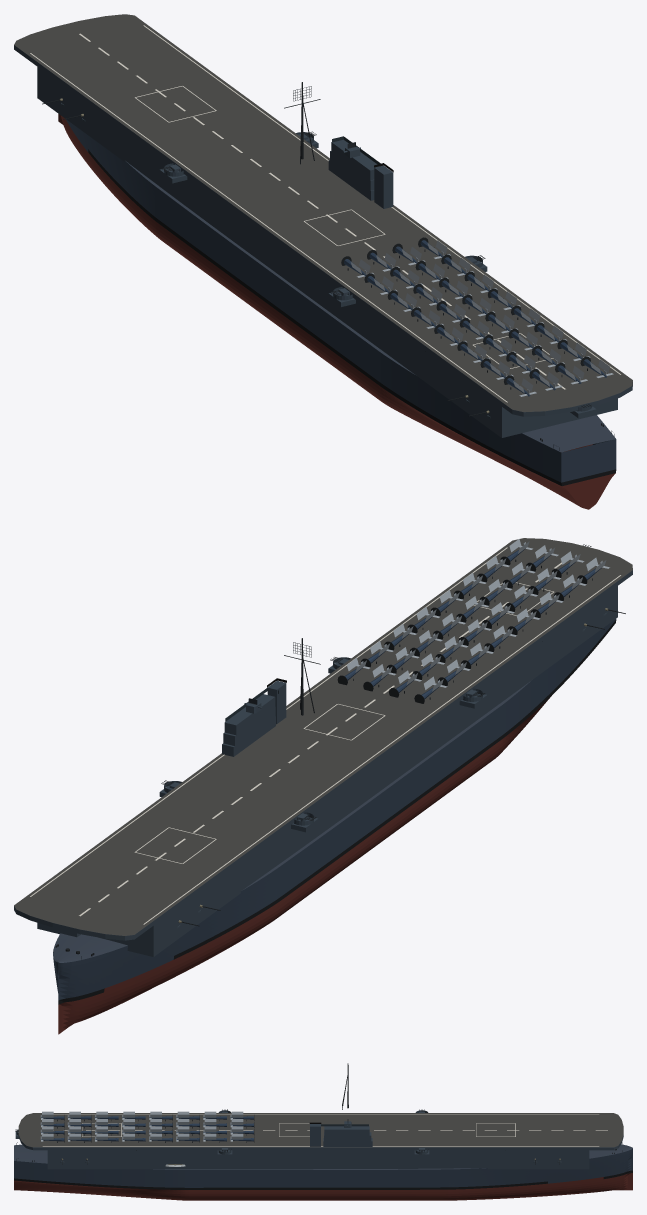
File: yorktown.glb
3 renders of one model, top to bottom at view 1: azimuth 30°, elevation 25°; view 2: azimuth 150°, elevation 25°; view 3: azimuth 270°, elevation 25°, orthographic. The views are drawn at different scales.
Parts seen in each view (by area): view 1: Hull; view 2: Hull; view 3: Hull.
Part boxes in pixels (bbox=[...]): Hull: bbox=[14, 14, 632, 509]; Hull: bbox=[14, 538, 632, 1034]; Hull: bbox=[14, 1063, 632, 1200].
Size of the model in its own units: 43 by 56.9 by 251.
